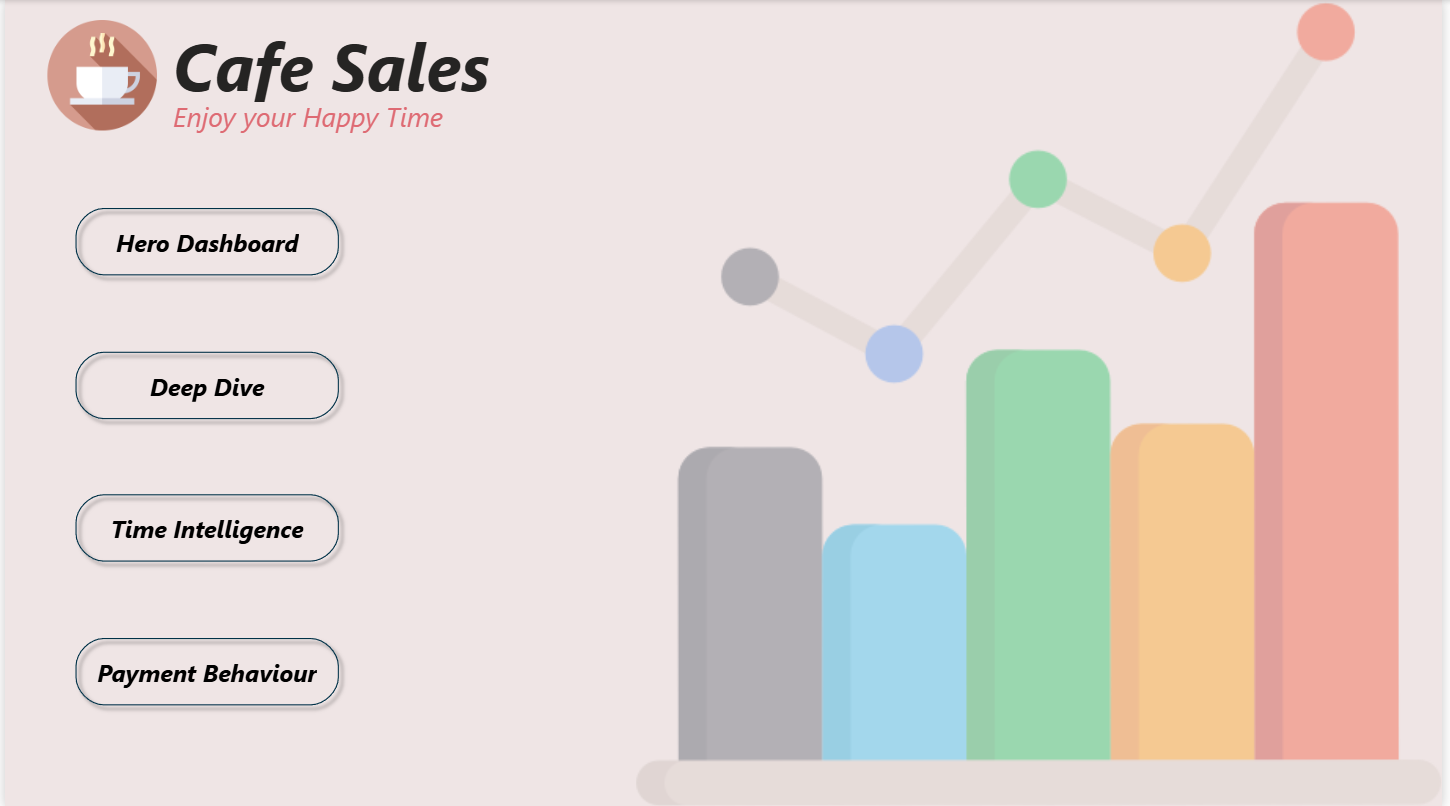

The dashboard page shown, as its layout file describes it:
{"tool":"powerbi","page":{"name":"Main Menu","canvas":[1280,720],"ordinal":0},"visuals":[{"type":"image","box":[562.7,0,717.1,719.9],"z":0},{"type":"image","box":[28.9,17.3,115.4,98.1],"z":1000},{"type":"textbox","box":[144.3,13,321.7,102.4],"z":2000},{"type":"textbox","box":[144.3,82.2,341.9,66.4],"z":3000},{"type":"actionButton","box":[54.8,177.5,251,76.5],"z":4000},{"type":"actionButton","box":[54.8,304.9,251,76.5],"z":5000},{"type":"actionButton","box":[54.8,559.8,251,76.5],"z":6000},{"type":"actionButton","box":[54.8,432.3,251,76.5],"z":7000}]}

Visuals, with their boxes in screenshot pixels (x1, y1, x2, y2), scaled from the page's 1280x720 canvas onto the 1450x806 screenshot:
image: (x1=637, y1=0, x2=1449, y2=805)
image: (x1=33, y1=19, x2=163, y2=129)
textbox: (x1=163, y1=15, x2=528, y2=129)
textbox: (x1=163, y1=92, x2=551, y2=166)
actionButton: (x1=62, y1=199, x2=346, y2=284)
actionButton: (x1=62, y1=341, x2=346, y2=427)
actionButton: (x1=62, y1=627, x2=346, y2=712)
actionButton: (x1=62, y1=484, x2=346, y2=570)
